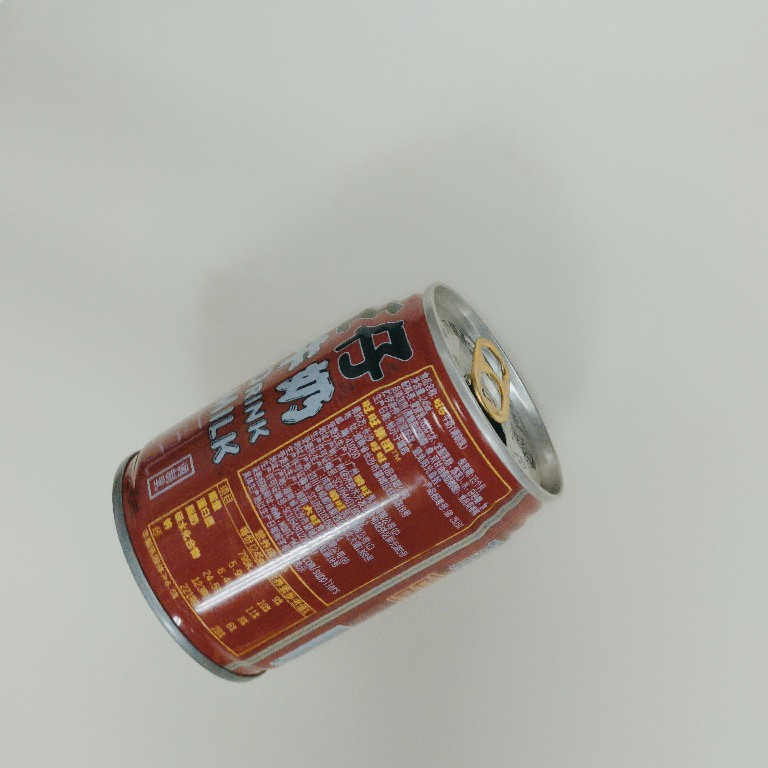can: (103, 278, 568, 690)
